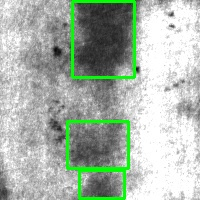patches: (73, 1, 134, 77), (67, 121, 128, 168), (79, 170, 124, 198)
